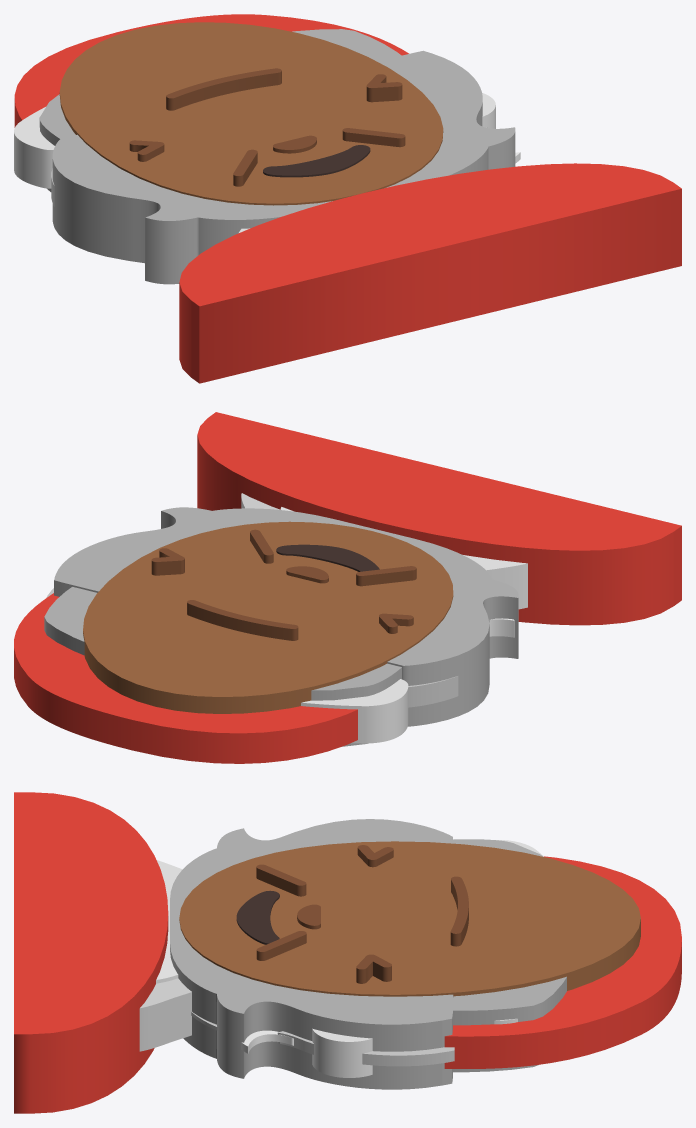
The model's file is emoji_u1f9d1_1f3fe_200d_1f384.glb.
3 views of the same model, one above another, from view 1: azimuth 30°, elevation 25°; view 2: azimuth 150°, elevation 25°; view 3: azimuth 270°, elevation 25° (orthographic). The views are drawn at different scales.
Visible parts, largest first — view 1: emoji_u1f9d1_1f3fe_200d_1f384; view 2: emoji_u1f9d1_1f3fe_200d_1f384; view 3: emoji_u1f9d1_1f3fe_200d_1f384.
Boxes of the visible parts, x1,y1,x2,y2 form: emoji_u1f9d1_1f3fe_200d_1f384: (14,14,681,383); emoji_u1f9d1_1f3fe_200d_1f384: (14,412,681,763); emoji_u1f9d1_1f3fe_200d_1f384: (14,792,681,1113).
Size of the model in its own units: 0.0287 by 0.0054 by 0.0335.
